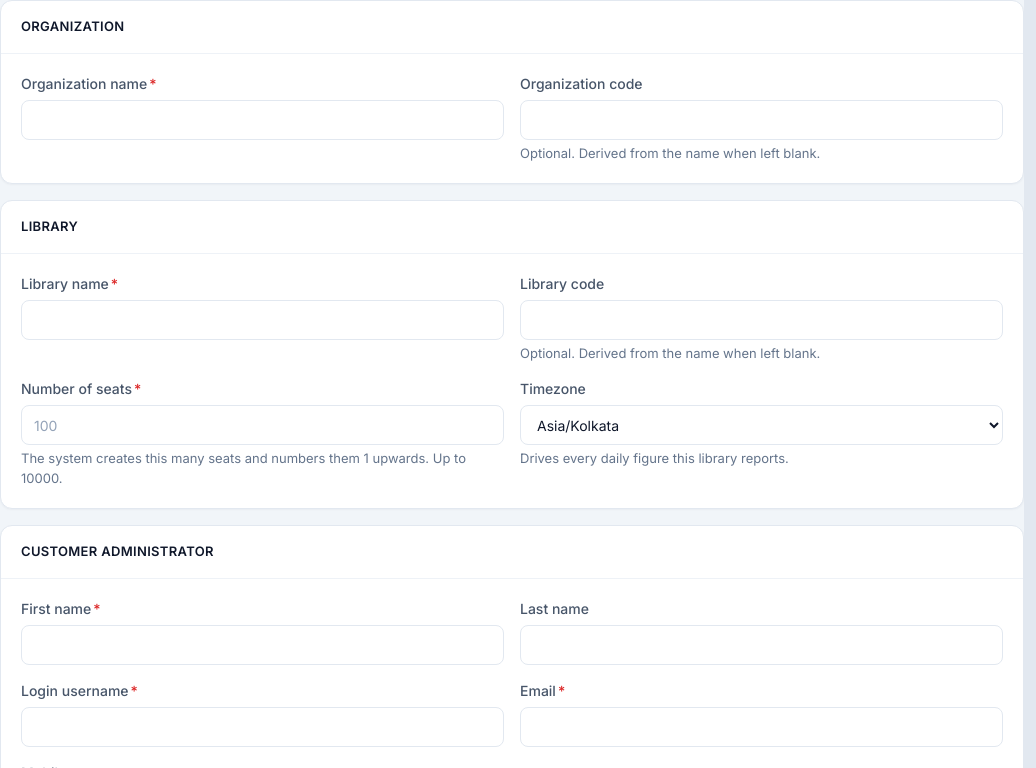
Test: CustomerOnboardingForm - number of seats › rejects a negative number
The image size is (1036, 768).
Step 1. Type "Customer A" into the field labelled "Organization name*" → (262, 120), box [21,100,504,140]
Step 2. Type "Library A" into the field labelled "Library name*" → (262, 320), box [21,300,504,340]
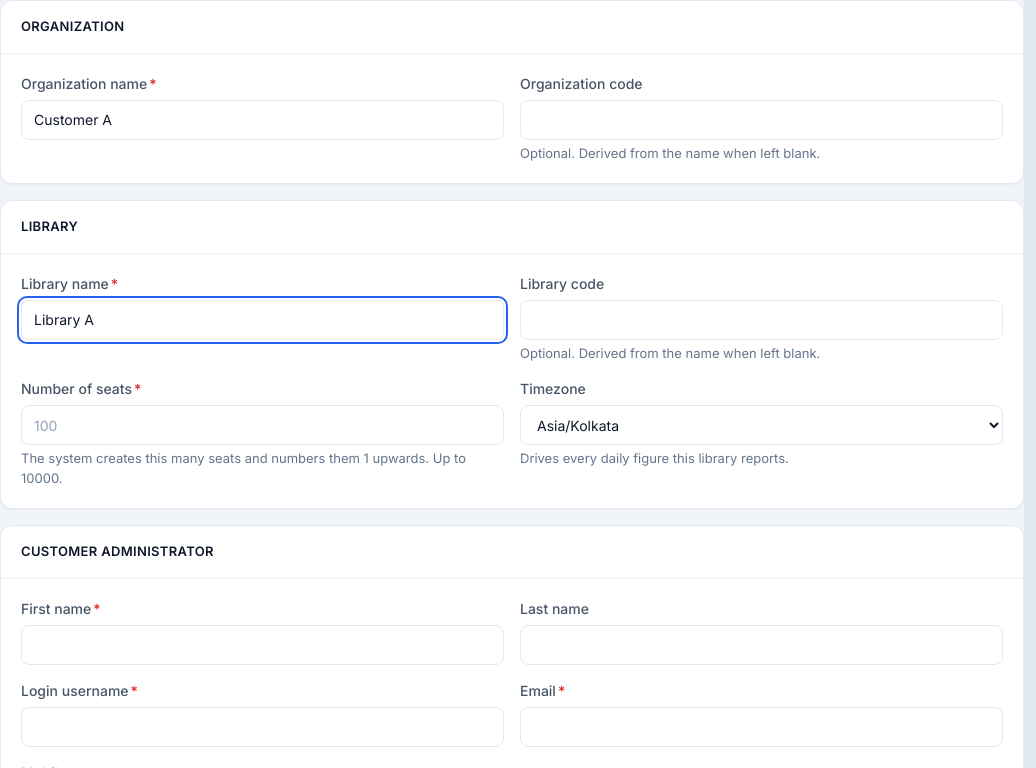
Step 3. Type "Asha" into the field labelled "First name*" → (262, 644), box [21,624,504,664]
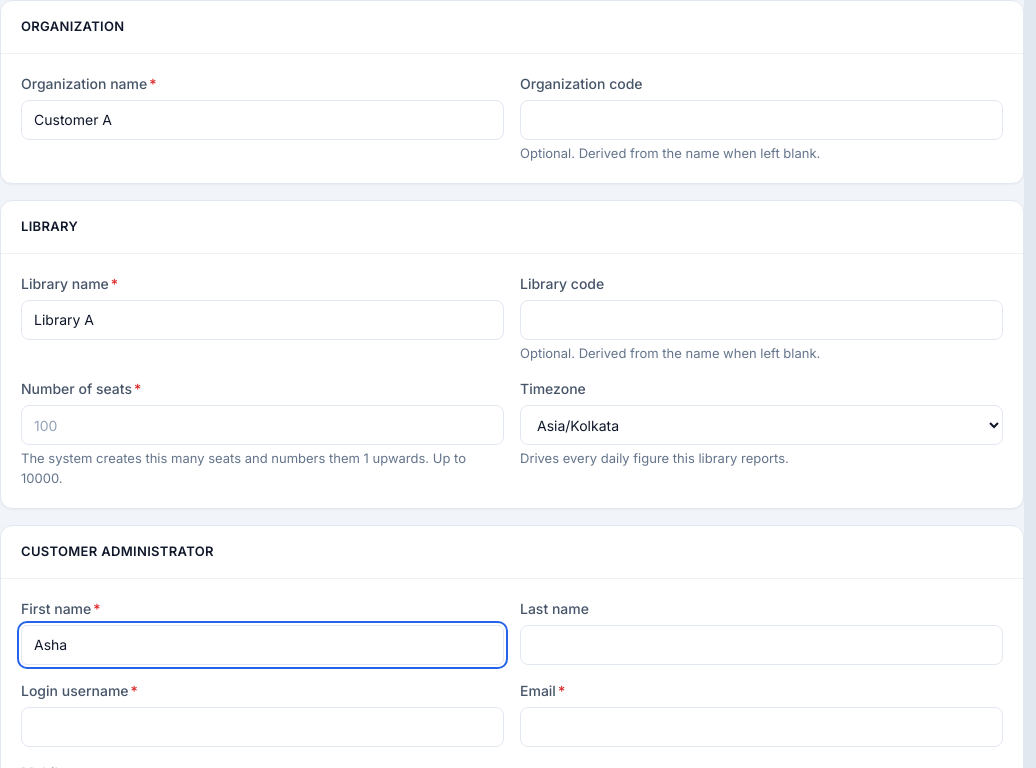
Step 4. Type "admina" into the field labelled "Login username*" → (262, 726), box [21,706,504,746]
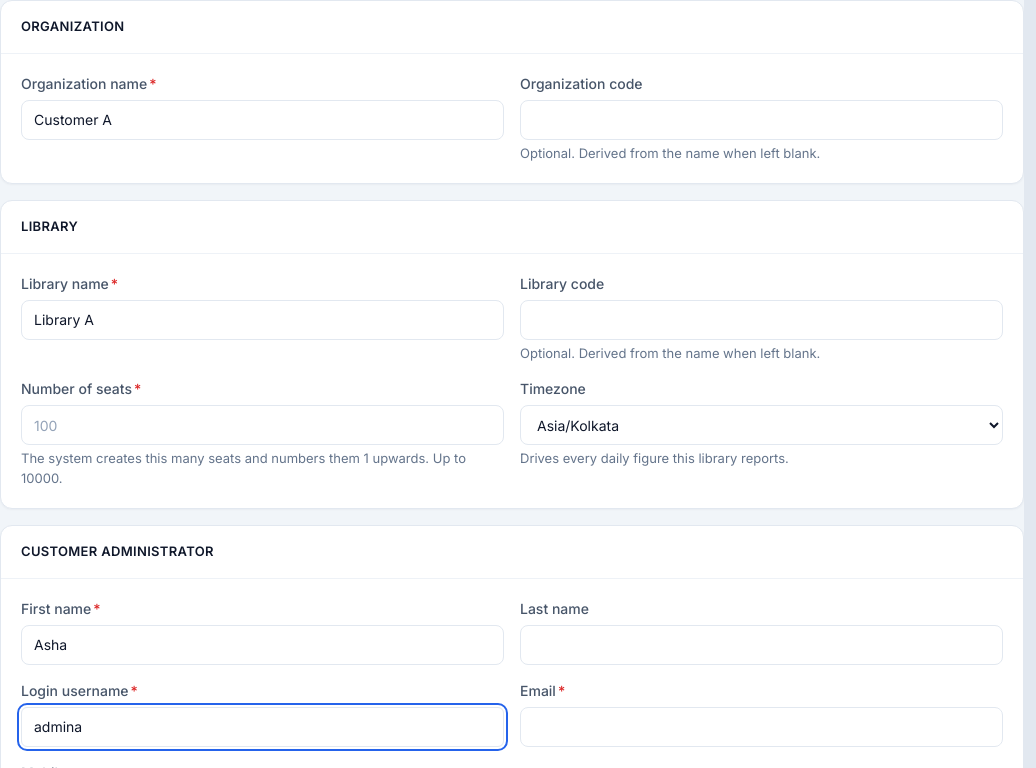
Step 5. Type "admina@customer.example" into the field labelled "Email*" → (762, 726), box [520,706,1003,746]
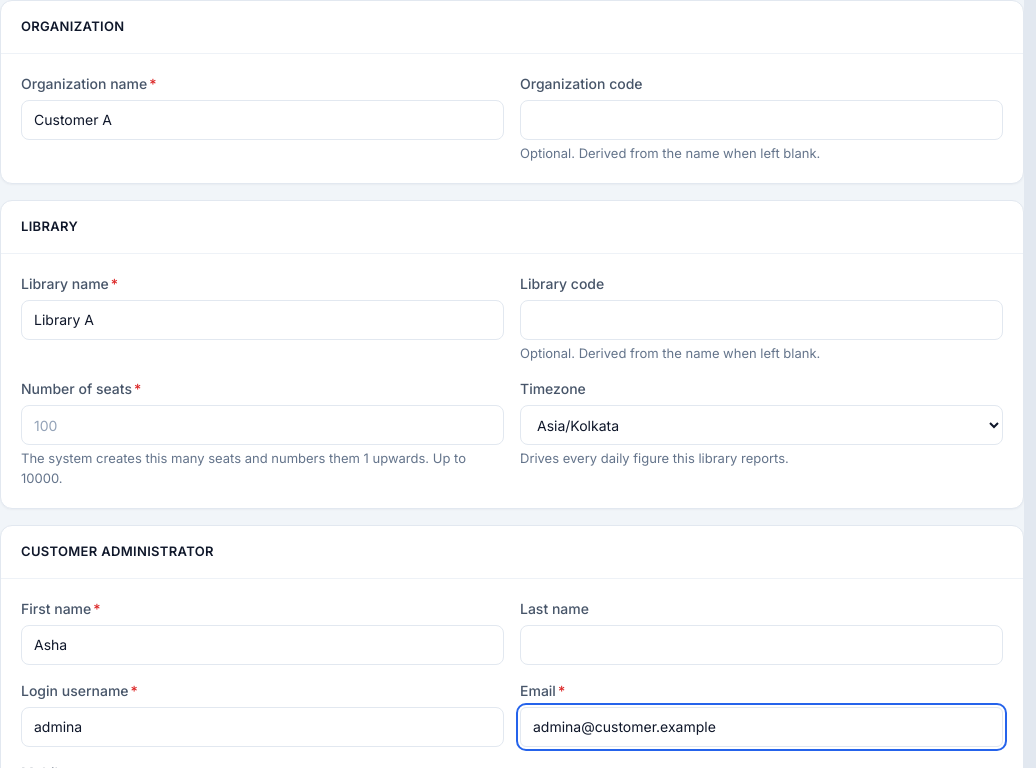
Step 6. Type "-5" into the number field labelled "Number of seats*" → (262, 425), box [21,405,504,445]
(page scrolled)
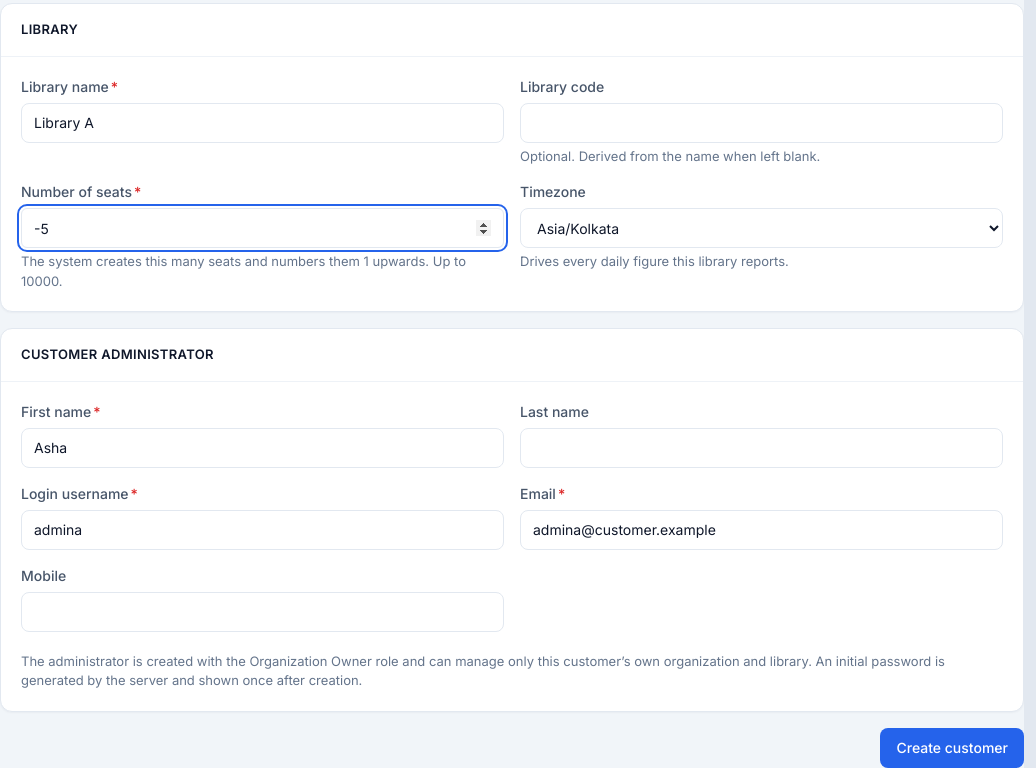
Step 7. Click the button "Create customer" → (952, 748), box [880,728,1024,767]
(page scrolled)
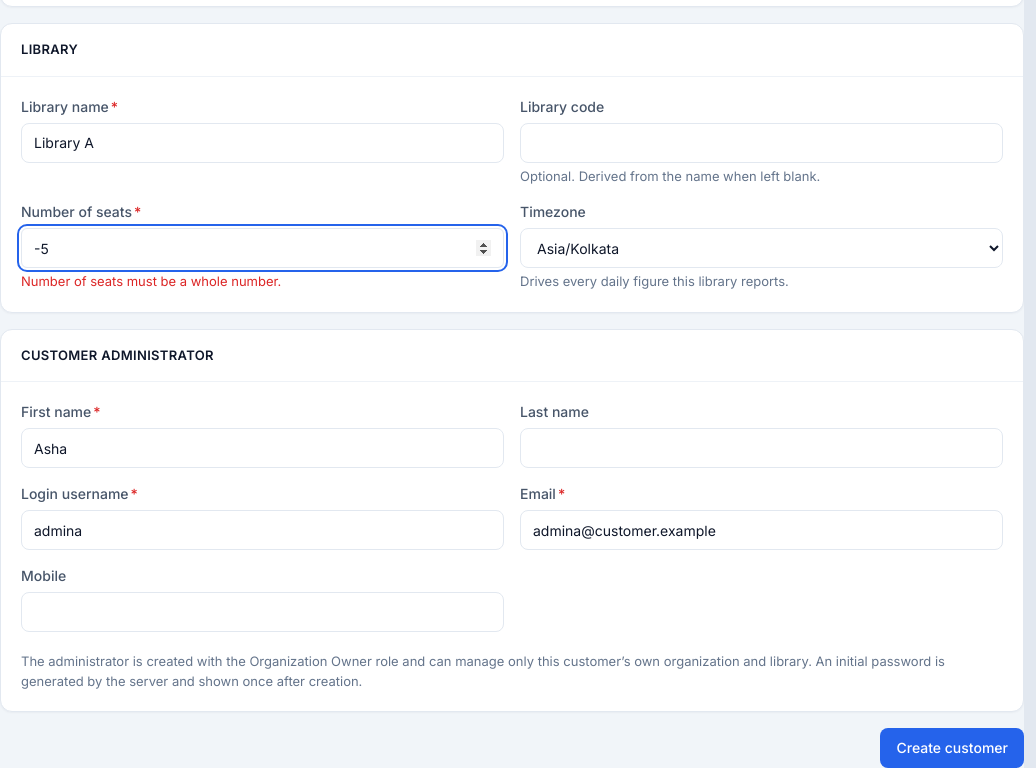
Check: the text "Number of seats must be a whole number." is shown, box [21,273,281,289]
